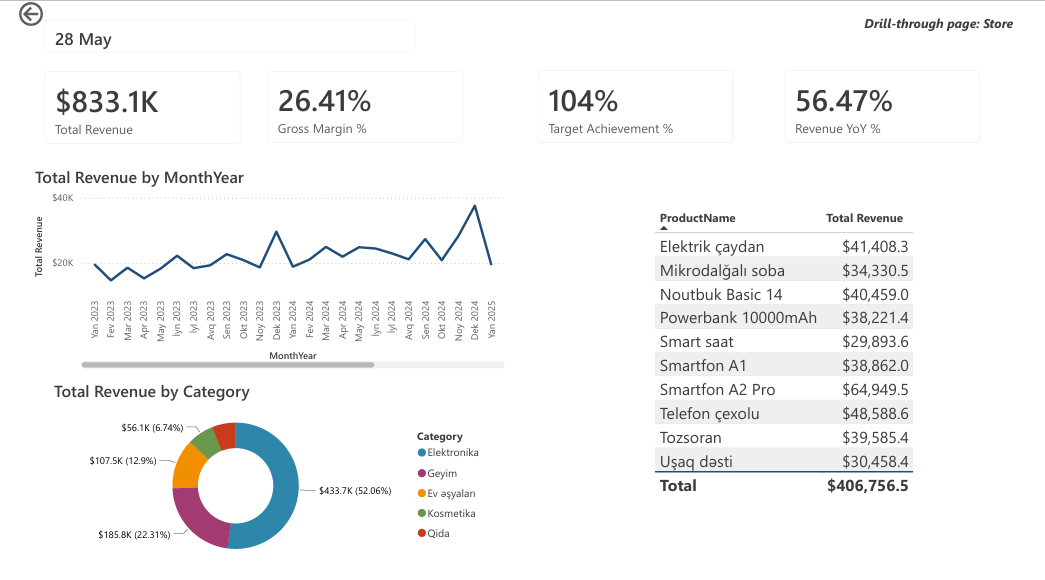

What the dashboard file says about the page in this screenshot:
{"tool":"powerbi","page":{"name":"Store Deep-Dive","canvas":[1280,720],"ordinal":5},"visuals":[{"type":"cardVisual","fields":{"Data":["Min(Dim_Store.StoreName)"]},"box":[20.5,10.2,499,74.6],"z":0},{"type":"cardVisual","fields":{"Data":["_Measures.Total Revenue"]},"box":[20.5,74.6,279.5,125.9],"z":1000},{"type":"cardVisual","fields":{"Data":["_Measures.Target Achievement %"]},"box":[640,74,279,125],"z":2000},{"type":"cardVisual","fields":{"Data":["_Measures.Revenue YoY %"]},"box":[950,74,279,125],"z":3000},{"type":"cardVisual","fields":{"Data":["_Measures.Gross Margin %"]},"box":[300,74.6,279.5,124.4],"z":4000},{"type":"lineChart","fields":{"Category":["Dim_Date.MonthYear"],"Y":["_Measures.Total Revenue"]},"box":[20,210,600,260],"z":5000},{"type":"donutChart","fields":{"Category":["Dim_Category.Category"],"Y":["_Measures.Total Revenue"]},"box":[43.9,478.5,553.2,241.5],"z":6000},{"type":"tableEx","fields":{"Values":["Dim_Product.ProductName","_Measures.Total Revenue"]},"box":[799,259,430.2,384.9],"z":7000},{"type":"actionButton","box":[0,0,100,40],"z":8000}]}

Visuals, with their boxes in screenshot pixels (x1, y1, x2, y2), scaled from the page's 1280x720 canvas onto the 1045x580 screenshot:
cardVisual - Min(Dim_Store.StoreName): [left=17, top=8, right=424, bottom=68]
cardVisual - _Measures.Total Revenue: [left=17, top=60, right=245, bottom=162]
cardVisual - _Measures.Target Achievement %: [left=522, top=60, right=750, bottom=160]
cardVisual - _Measures.Revenue YoY %: [left=776, top=60, right=1003, bottom=160]
cardVisual - _Measures.Gross Margin %: [left=245, top=60, right=473, bottom=160]
lineChart - Dim_Date.MonthYear x _Measures.Total Revenue: [left=16, top=169, right=506, bottom=379]
donutChart - Dim_Category.Category x _Measures.Total Revenue: [left=36, top=385, right=487, bottom=579]
tableEx - Dim_Product.ProductName x _Measures.Total Revenue: [left=652, top=209, right=1004, bottom=519]
actionButton: [left=0, top=0, right=82, bottom=32]
